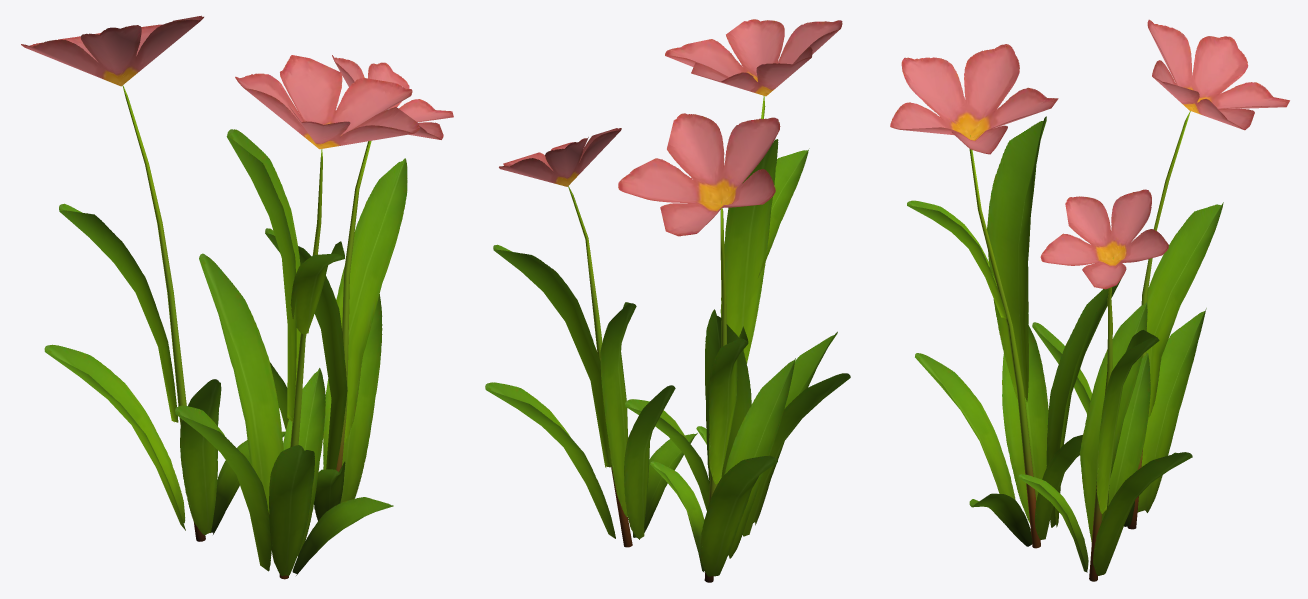
File: flower_3_group.glb
The picture shows the model from 3 angles, left to right: view 1: azimuth 30°, elevation 25°; view 2: azimuth 150°, elevation 25°; view 3: azimuth 270°, elevation 25°; orthographic projection. The views are drawn at different scales.
Visible parts, largest first — view 1: Flower_3_Group; view 2: Flower_3_Group; view 3: Flower_3_Group.
Boxes of the visible parts, x1,y1,x2,y2 form: Flower_3_Group: (21,15,453,579); Flower_3_Group: (485,19,850,582); Flower_3_Group: (890,19,1289,581).
Bounding box in the file's own units: 1.49 × 2.05 × 1.59.
2 materials, 2 textured.
